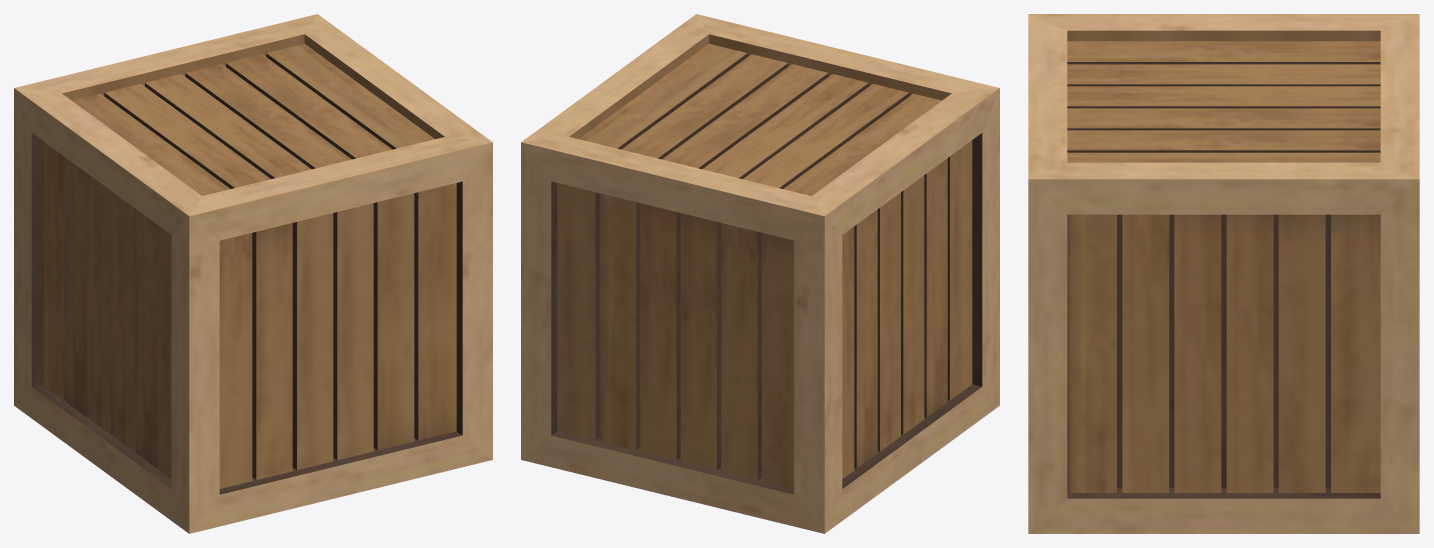
Rendered from SM_Int_Box.fbx.
The picture shows the model from 3 angles, left to right: view 1: azimuth 30°, elevation 25°; view 2: azimuth 150°, elevation 25°; view 3: azimuth 270°, elevation 25°; orthographic projection. The views are drawn at different scales.
Parts seen in each view (by area): view 1: SM_Int_Box; view 2: SM_Int_Box; view 3: SM_Int_Box.
Part boxes in pixels (box(x1,y1,x2,y2)): SM_Int_Box: box(14, 14, 492, 533); SM_Int_Box: box(521, 14, 999, 533); SM_Int_Box: box(1028, 14, 1419, 533).
Size of the model in its own units: 1.5 by 1.5 by 1.5.
Materials: 1 (1 with a texture image).
